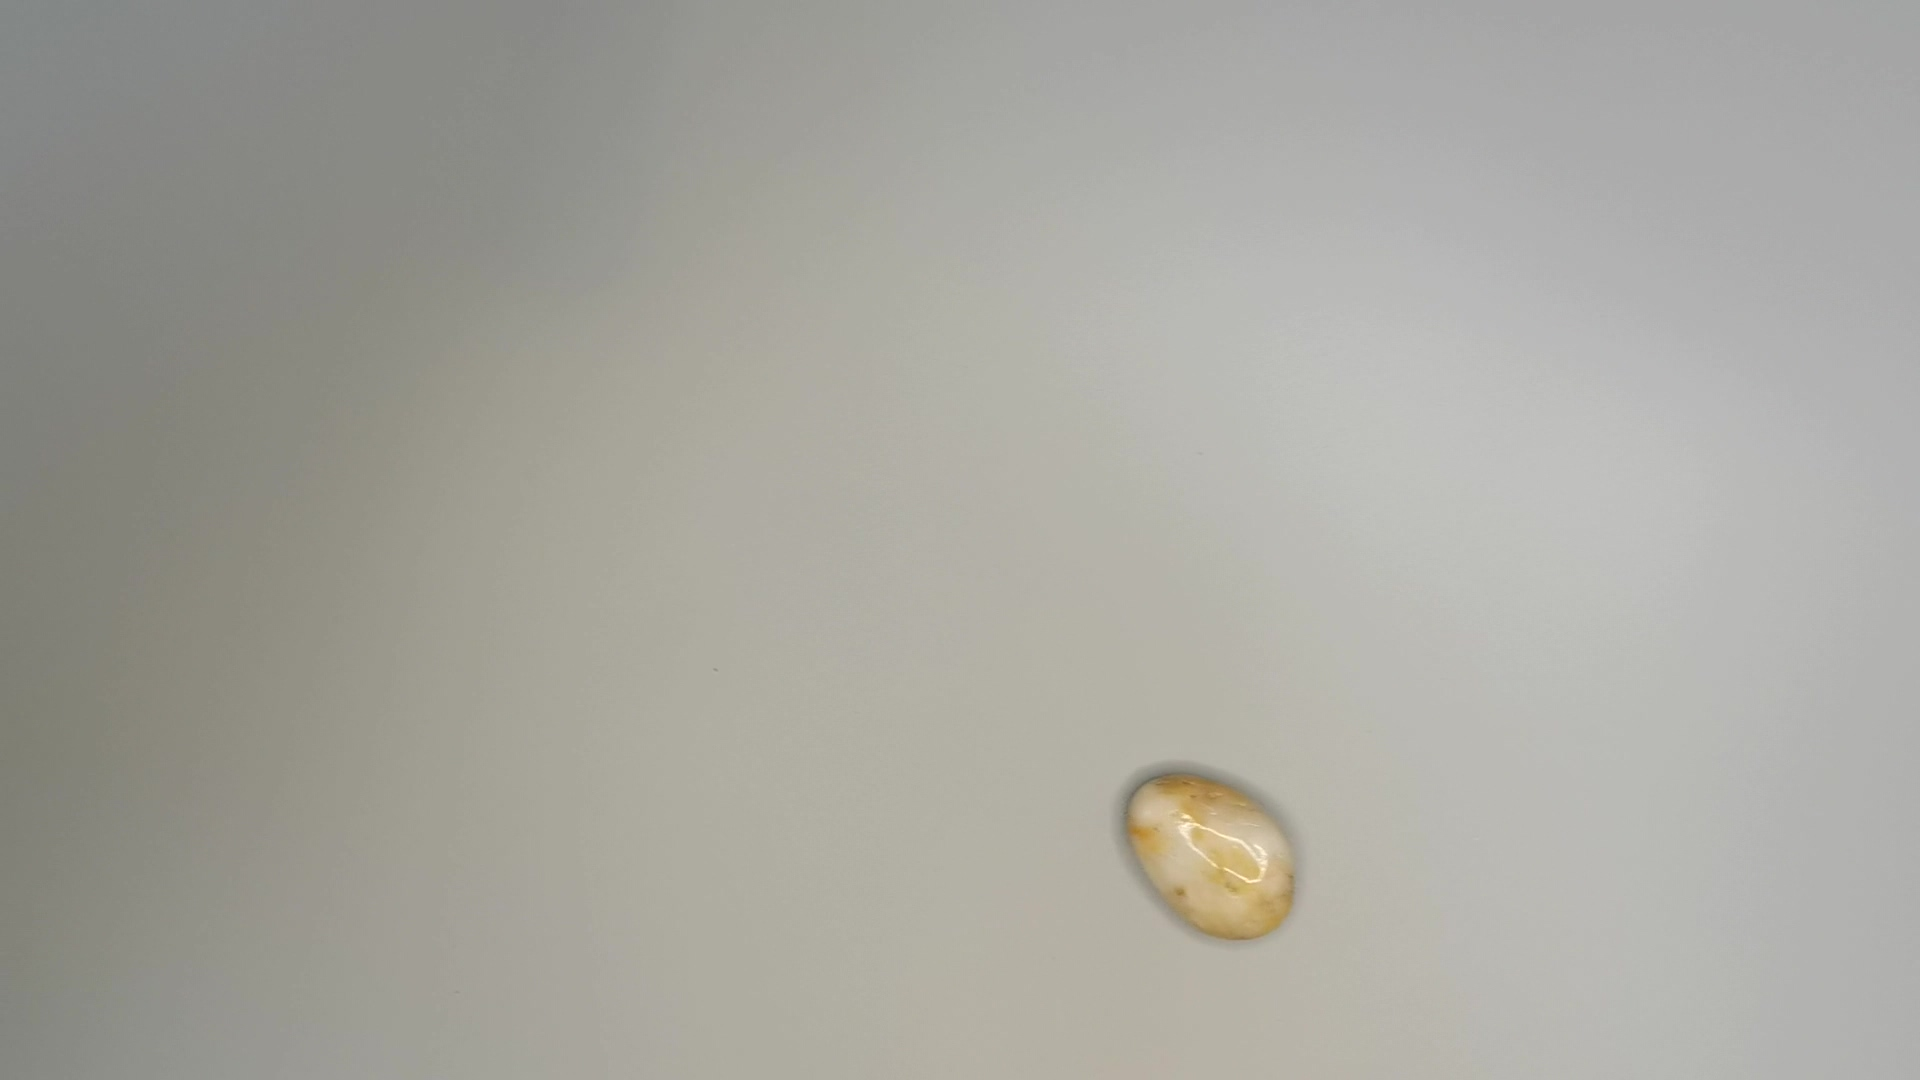ceramic: (1126, 765, 1299, 945)
